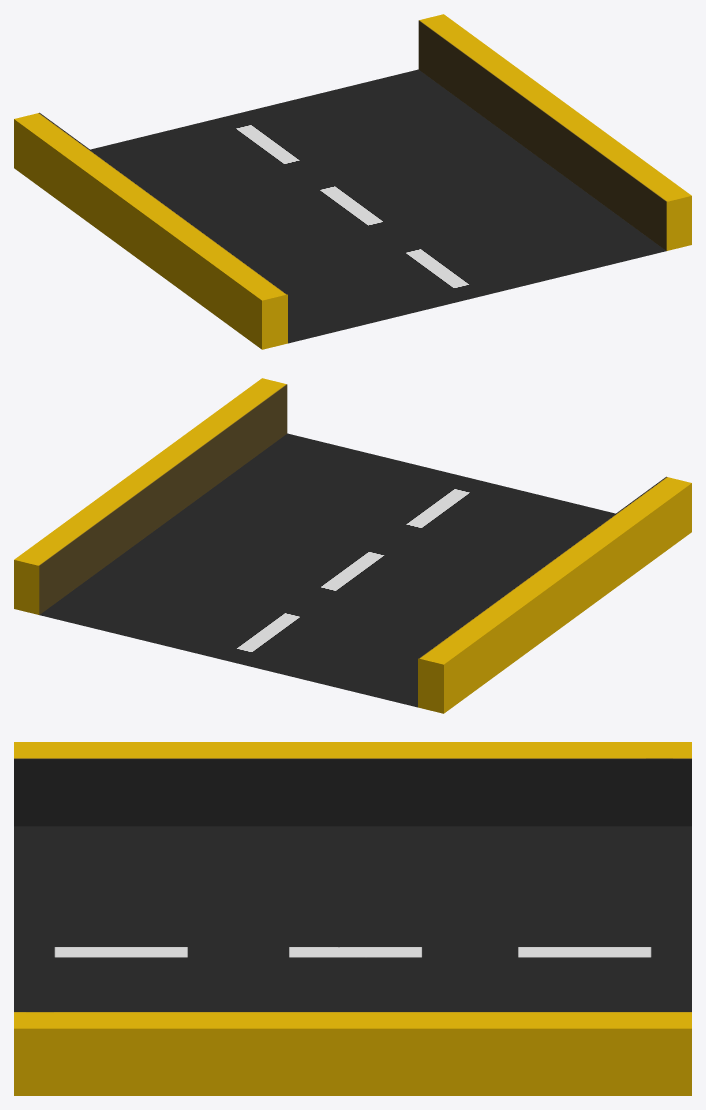
File: yol_deneme.fbx
3 renders of one model, top to bottom at view 1: azimuth 30°, elevation 25°; view 2: azimuth 150°, elevation 25°; view 3: azimuth 270°, elevation 25°, orthographic. The views are drawn at different scales.
Visible parts, largest first — view 1: Road; view 2: Road; view 3: Road.
Boxes of the visible parts, x1,y1,x2,y2 form: Road: (14, 14, 691, 349); Road: (14, 378, 691, 713); Road: (14, 742, 691, 1095).
Size of the model in its own units: 200 by 21.86 by 200.
1 material, 1 textured.
